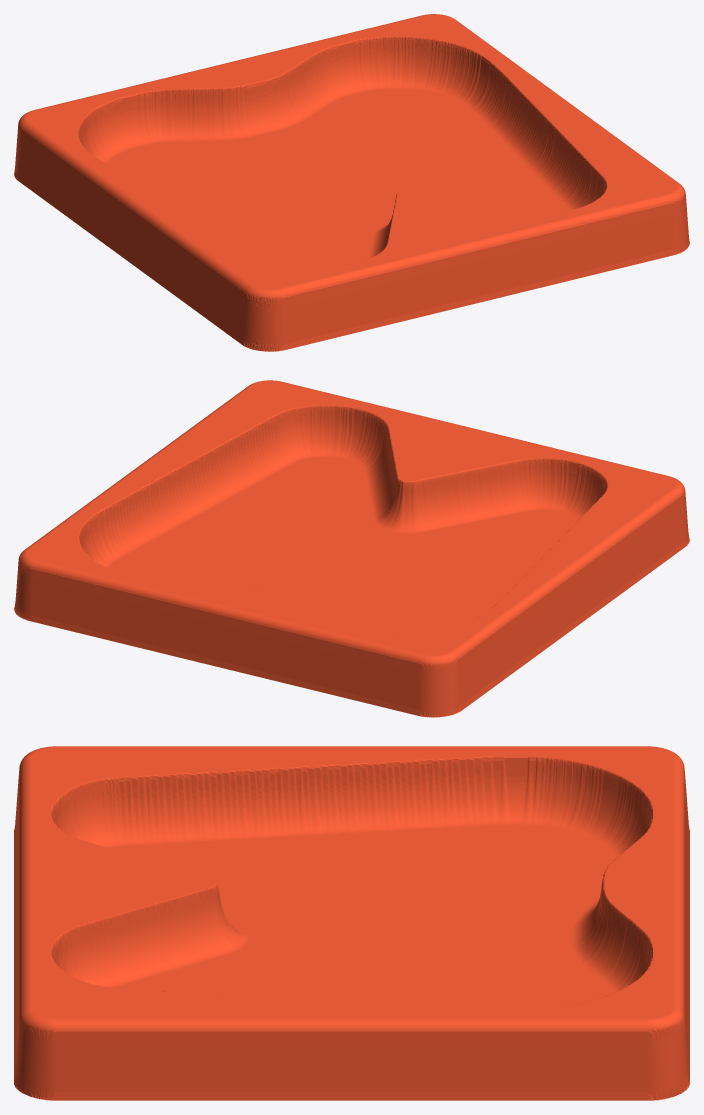
The model's file is mold.glb.
The picture shows the model from 3 angles, top to bottom: view 1: azimuth 30°, elevation 25°; view 2: azimuth 150°, elevation 25°; view 3: azimuth 270°, elevation 25°; orthographic projection. The views are drawn at different scales.
Visible parts, largest first — view 1: geometry_0; view 2: geometry_0; view 3: geometry_0.
Part boxes in pixels (<box>): geometry_0: <box>14,14,689,351</box>; geometry_0: <box>14,380,689,717</box>; geometry_0: <box>14,746,689,1100</box>.
Size of the model in its own units: 0.1435 by 0.0175 by 0.1435.
